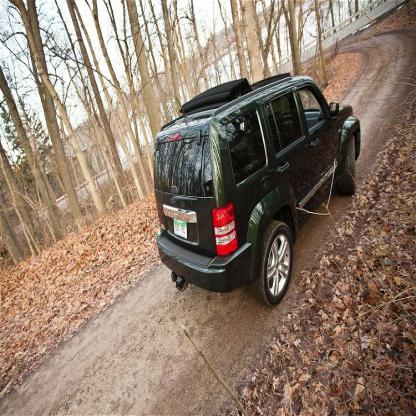Vehicle: (153, 74, 363, 312)
